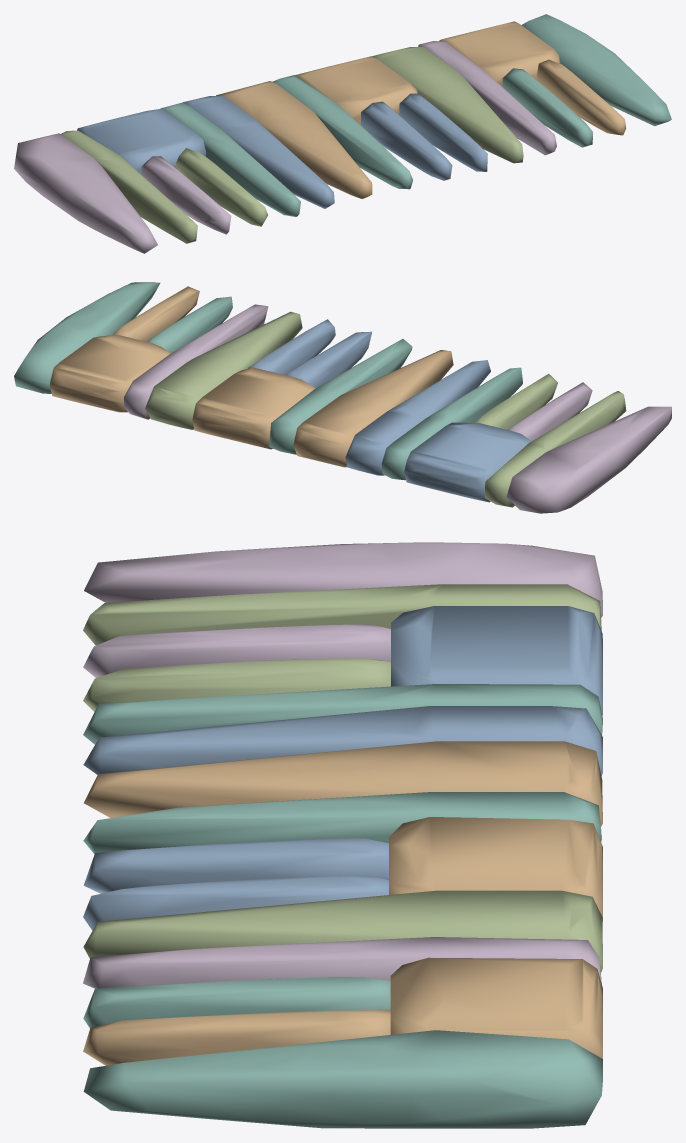
3 views of the same model, one above another, from view 1: azimuth 30°, elevation 25°; view 2: azimuth 150°, elevation 25°; view 3: azimuth 270°, elevation 25° (orthographic). The views are drawn at different scales.
Bounding box in the file's own units: 1.9 × 0.1019 × 0.7734.
